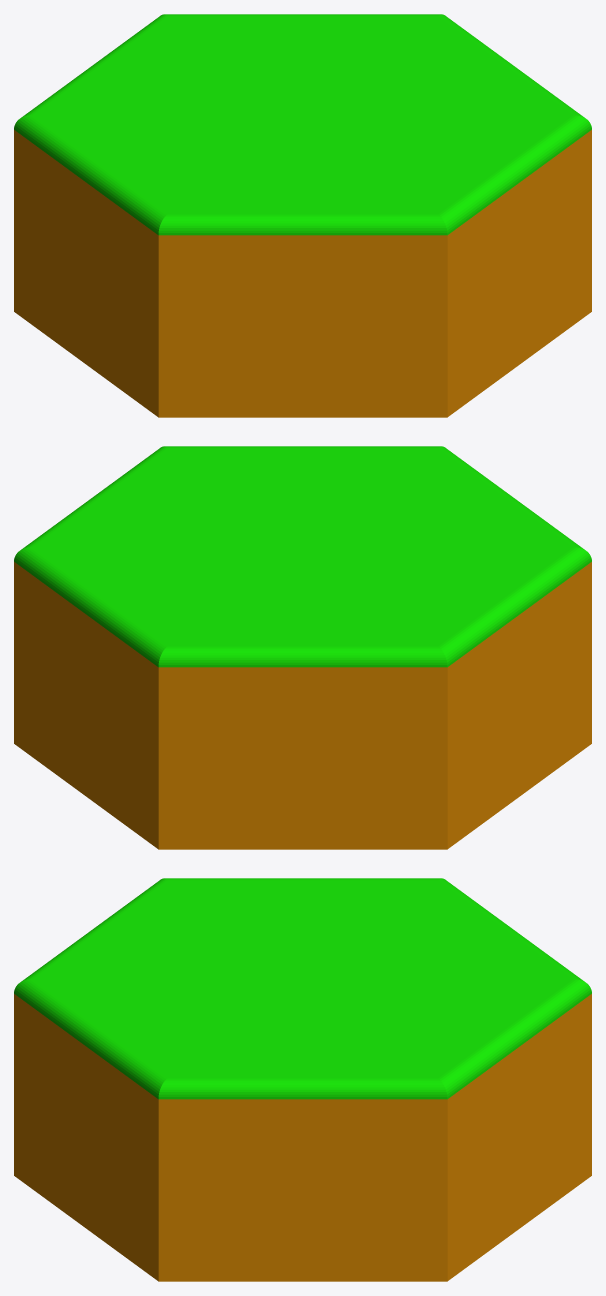
The model's file is HexFinal.fbx.
3 views of the same model, one above another, from view 1: azimuth 30°, elevation 25°; view 2: azimuth 150°, elevation 25°; view 3: azimuth 270°, elevation 25° (orthographic).
Parts seen in each view (by area): view 1: HexagoneF; view 2: HexagoneF; view 3: HexagoneF.
Part boxes in pixels (x1,y1,x2,y2): HexagoneF: [14, 14, 591, 417]; HexagoneF: [14, 446, 591, 849]; HexagoneF: [14, 878, 591, 1281].
Bounding box in the file's own units: 200 × 173 × 75.
